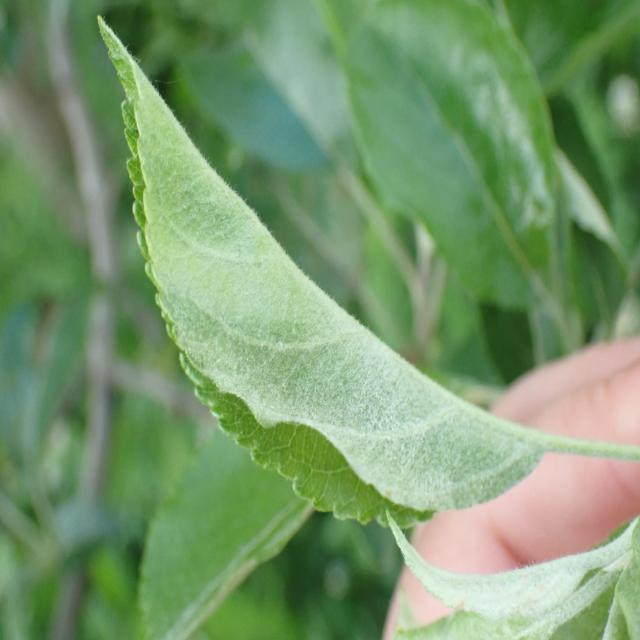Powdery_mildew: (96, 12, 552, 523), (336, 512, 640, 640)
